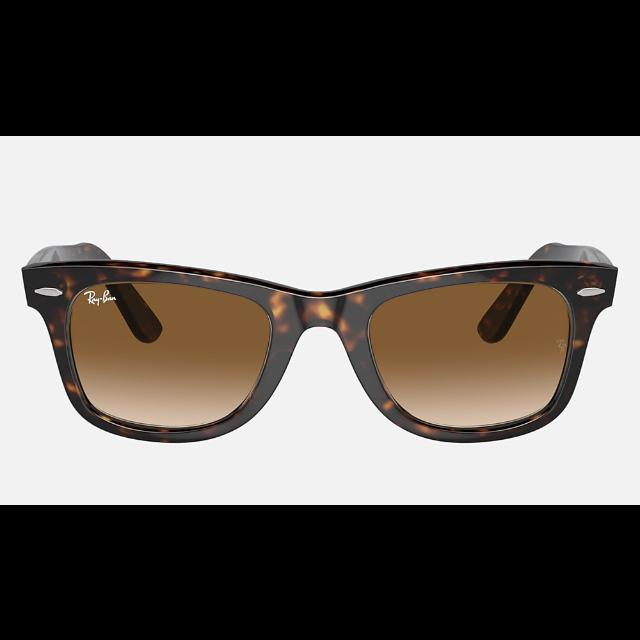Sunglasses: (23, 236, 615, 439)
